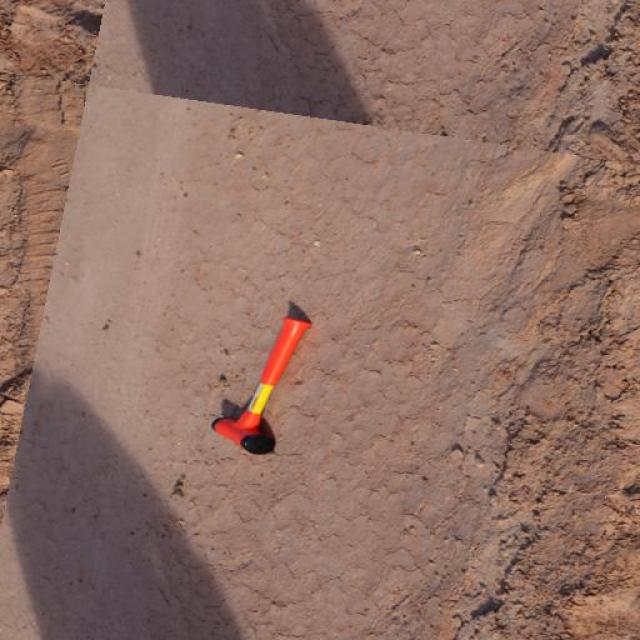mallet: (210, 299, 312, 455)
